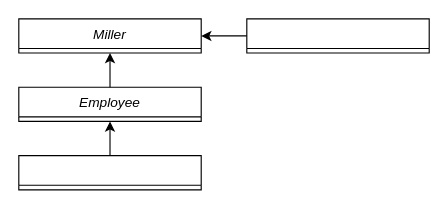
This 448x209 diagram has some shape labels left out. The centre of each missing label's shape, as x and y in pixels:
Consultant: point 337,35
Supervisor: point 109,172
